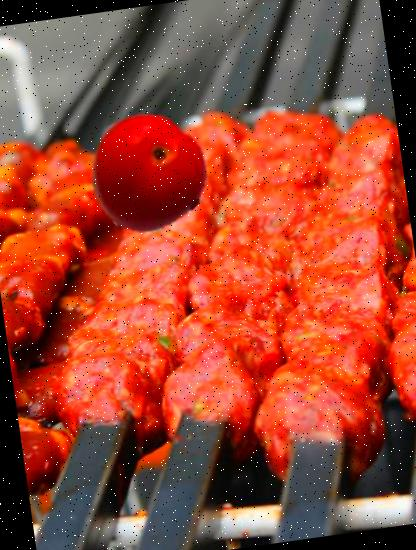Tomato: (81, 108, 214, 241)
